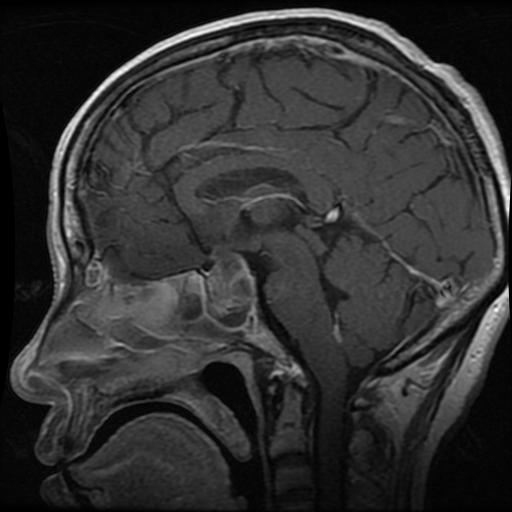Pituirity_tumour: (208, 250, 254, 318)
